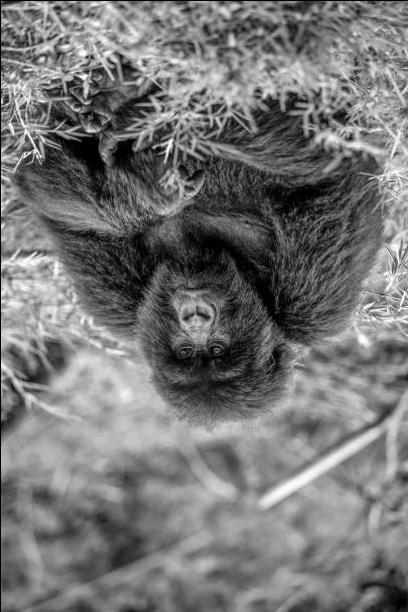goriile_montagne: (16, 52, 370, 442)
